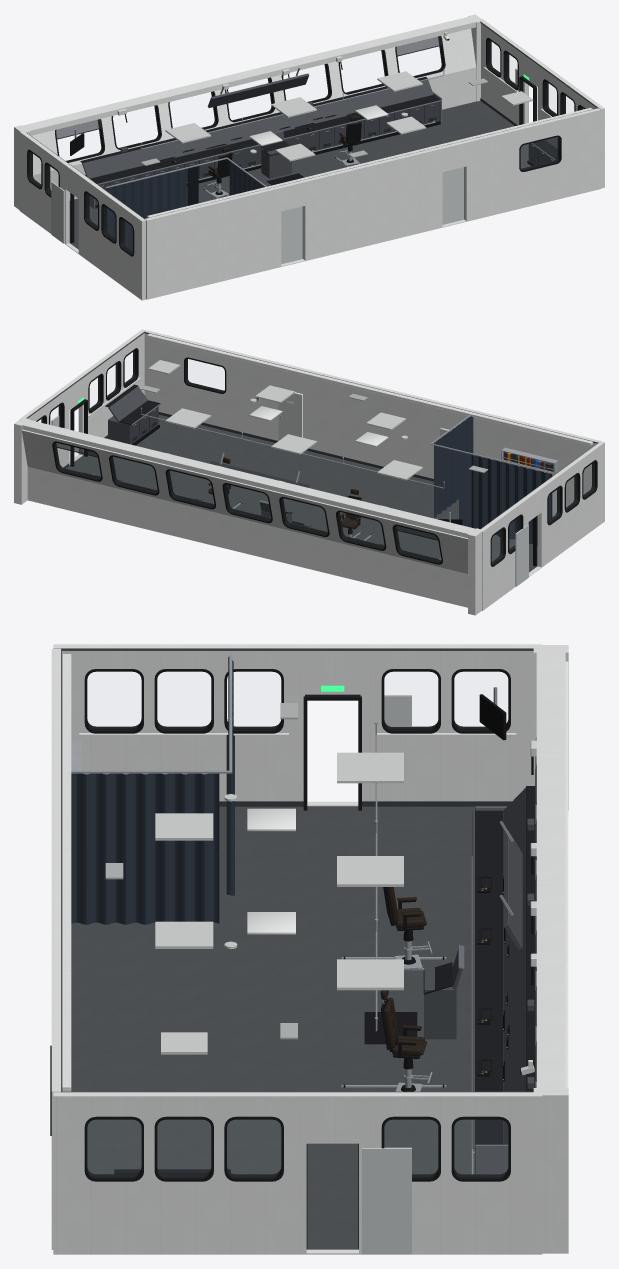
File: ibs-bridge-shell.glb
The picture shows the model from 3 angles, top to bottom: view 1: azimuth 30°, elevation 25°; view 2: azimuth 150°, elevation 25°; view 3: azimuth 270°, elevation 25°; orthographic projection. The views are drawn at different scales.
Parts seen in each view (by area): view 1: Bulkheads, Console, Deck, WindowGaskets, Curtains, Doors, Deckhead, Trim, Chairs, Overhead, Pedestal, Blinds (+4 smaller); view 2: Bulkheads, Deck, Curtains, WindowGaskets, Trim, Deckhead, Doors, GMDSS, ChartRoom, AirCon, Chairs, Console (+1 smaller); view 3: Bulkheads, Deck, Curtains, Console, Deckhead, Trim, WindowGaskets, Doors, Chairs, Pedestal, AirCon, Overhead (+3 smaller).
Boxes of the visible parts, <box> form: Bulkheads: <box>14,14,604,300</box>; Console: <box>80,77,441,208</box>; Deck: <box>69,100,530,258</box>; WindowGaskets: <box>27,36,585,256</box>; Curtains: <box>106,161,264,251</box>; Doors: <box>51,68,536,264</box>; Deckhead: <box>141,71,533,165</box>; Trim: <box>26,21,598,218</box>; Chairs: <box>203,115,361,198</box>; Overhead: <box>207,67,309,107</box>; Pedestal: <box>261,130,291,178</box>; Blinds: <box>55,36,442,138</box>; Bulkheads: <box>14,329,604,615</box>; Deck: <box>66,414,553,572</box>; Curtains: <box>434,416,552,545</box>; WindowGaskets: <box>36,348,597,566</box>; Trim: <box>26,331,598,529</box>; Deckhead: <box>141,360,488,480</box>; Doors: <box>51,393,536,586</box>; GMDSS: <box>105,384,161,445</box>; ChartRoom: <box>430,414,558,517</box>; AirCon: <box>249,397,388,446</box>; Chairs: <box>208,457,373,540</box>; Console: <box>82,472,441,560</box>; Bulkheads: <box>51,644,568,1254</box>; Deck: <box>71,806,474,1249</box>; Curtains: <box>71,656,234,924</box>; Console: <box>472,786,535,1174</box>; Deckhead: <box>105,703,403,1054</box>; Trim: <box>61,648,533,1092</box>; WindowGaskets: <box>50,669,536,1181</box>; Doors: <box>303,694,411,1254</box>; Chairs: <box>341,887,446,1091</box>; Pedestal: <box>423,945,464,1039</box>; AirCon: <box>247,808,295,934</box>; Overhead: <box>499,821,522,950</box>.
Size of the model in its own units: 18.45 by 3.23 by 8.9.
44 materials, 7 textured.
